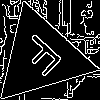F: (16, 31, 72, 85)
